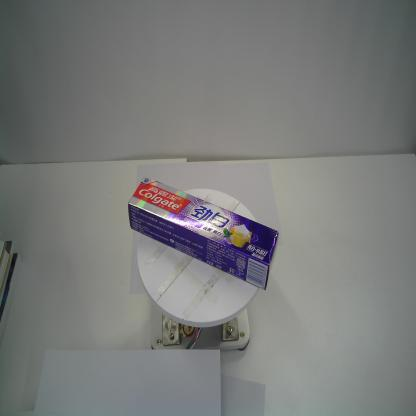Personal Hygiene: (127, 176, 279, 290)
